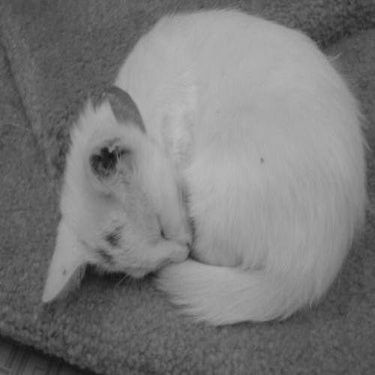cat: (25, 13, 361, 320)
